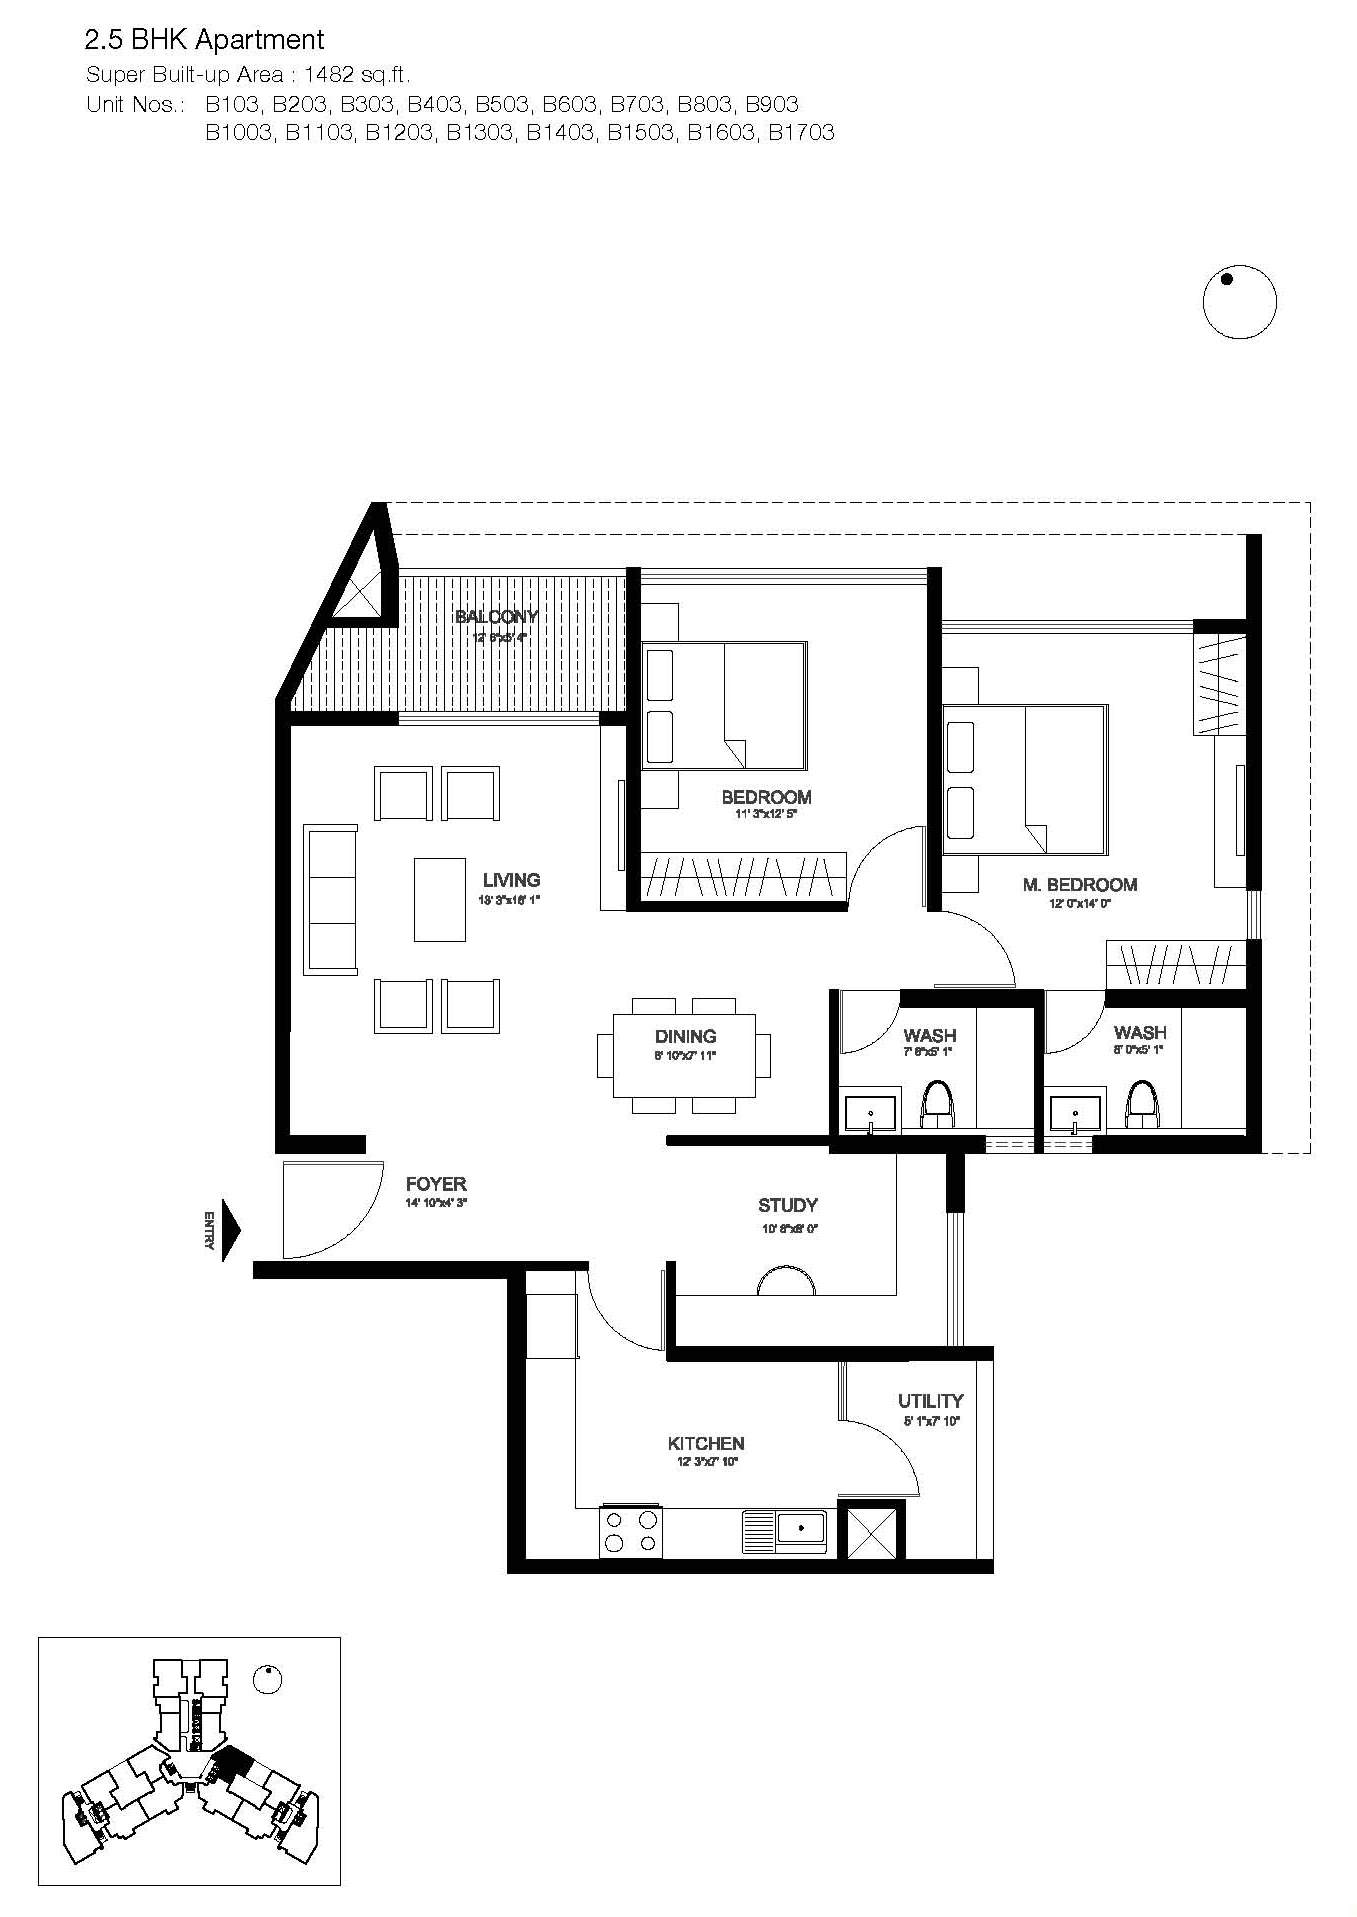door: (288, 1158, 386, 1259), (589, 1276, 664, 1358), (847, 1418, 922, 1497), (944, 903, 1016, 985), (850, 821, 925, 892), (840, 994, 896, 1060), (1046, 1005, 1101, 1054)
